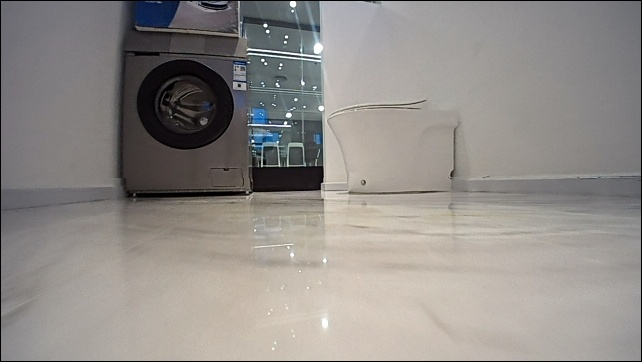toilet: (324, 96, 461, 195)
washing_machine: (120, 30, 250, 198)
